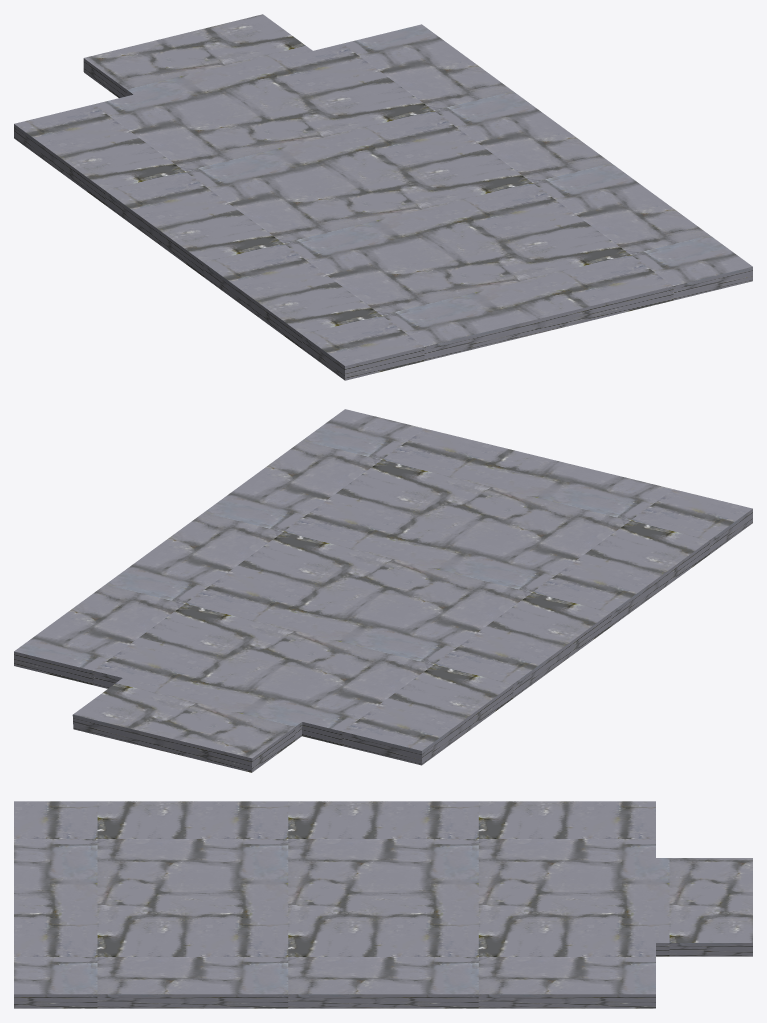
Rendered from Floor_Mithraeum.FBX.
The picture shows the model from 3 angles, top to bottom: view 1: azimuth 30°, elevation 25°; view 2: azimuth 150°, elevation 25°; view 3: azimuth 270°, elevation 25°; orthographic projection. The views are drawn at different scales.
Visible parts, largest first — view 1: FloorMithraeum; view 2: FloorMithraeum; view 3: FloorMithraeum.
Part boxes in pixels (x1,y1,x2,y2): FloorMithraeum: [14, 14, 752, 380]; FloorMithraeum: [14, 409, 752, 772]; FloorMithraeum: [14, 801, 752, 1008].
Size of the model in its own units: 14.37 by 0.489 by 23.26.
1 material, 1 textured.
